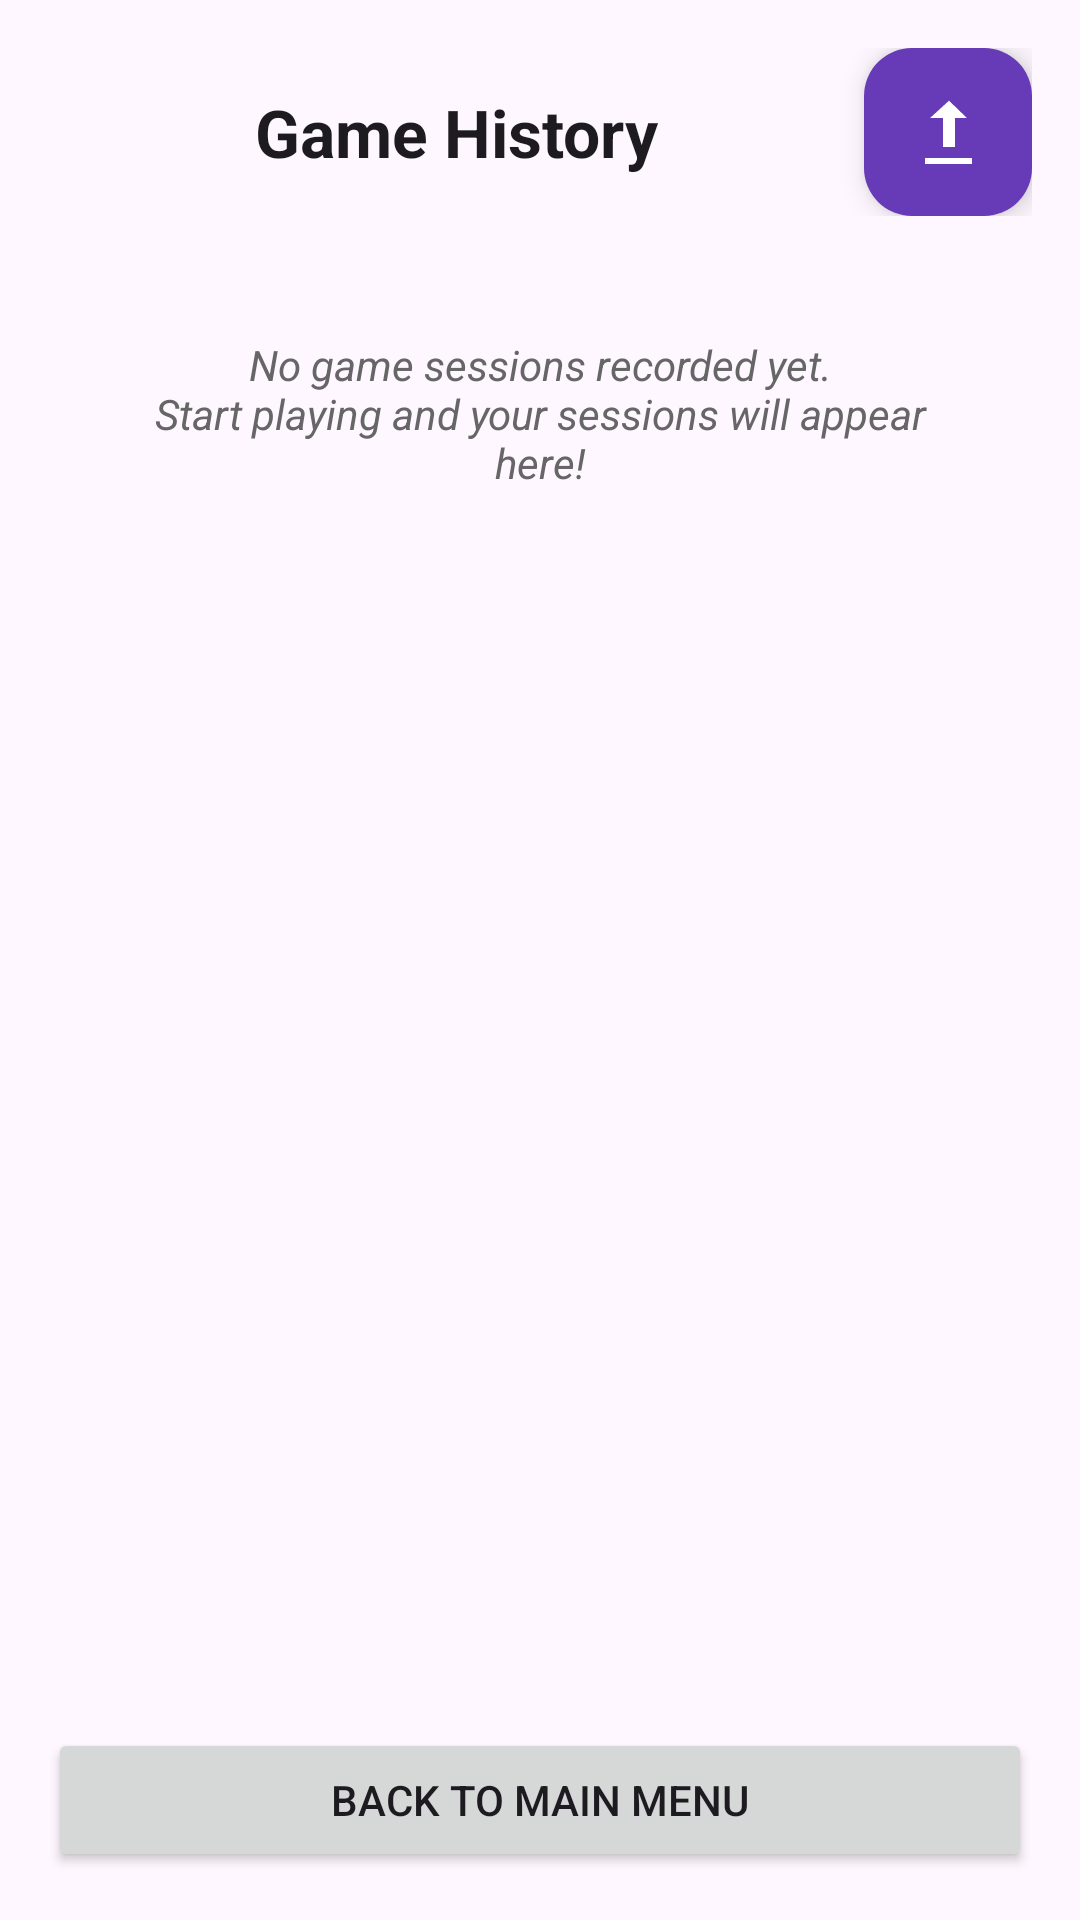

Screen size 1080 x 1920. Icon name, then its box in pixels as (x1, y1, x2, y2):
Import: (864, 48, 1032, 216)
